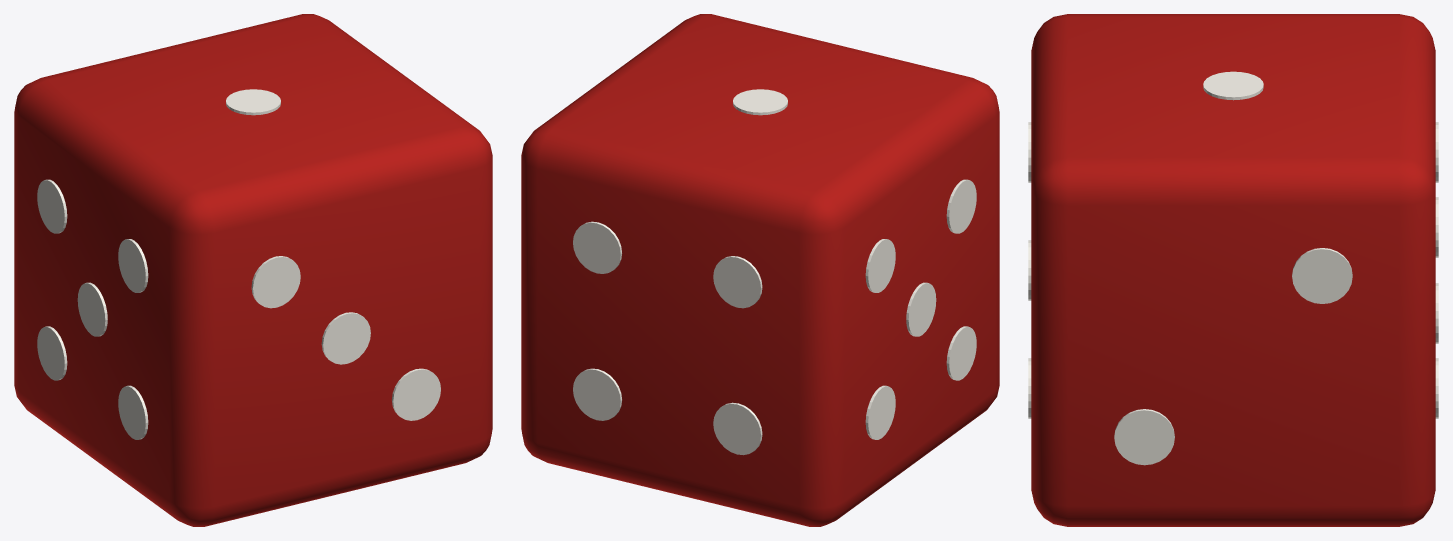
3 renders of one model, left to right at view 1: azimuth 30°, elevation 25°; view 2: azimuth 150°, elevation 25°; view 3: azimuth 270°, elevation 25°, orthographic. The views are drawn at different scales.
Parts seen in each view (by area): view 1: d6; view 2: d6; view 3: d6.
Boxes of the visible parts, box(x1,y1,x2,y2) form: d6: box(14, 14, 492, 526); d6: box(521, 14, 999, 526); d6: box(1028, 14, 1438, 526).
Size of the model in its own units: 1.02 by 1.02 by 1.02.
